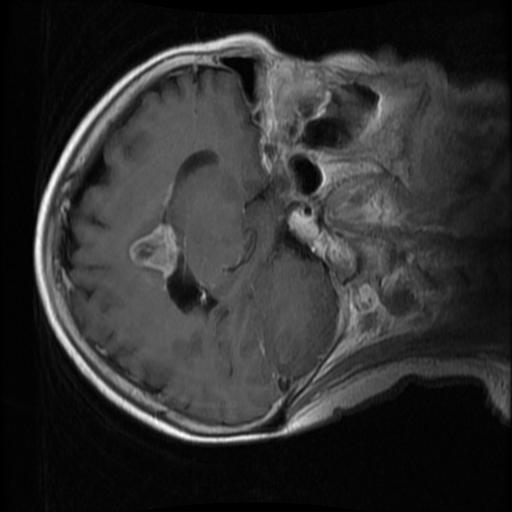glioma: (129, 225, 179, 281)
